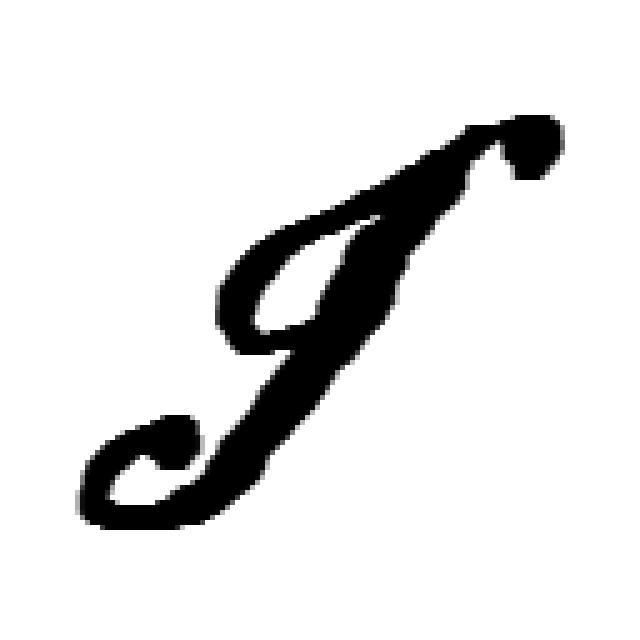I: (80, 115, 565, 535)
